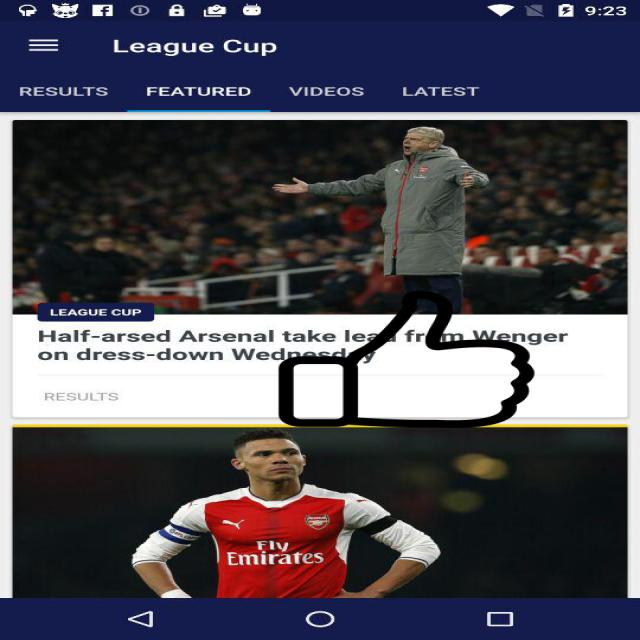privacy zuckering: (275, 291, 538, 428)
